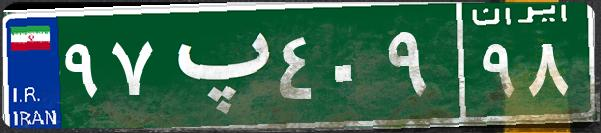0: (330, 28, 385, 110)
4: (273, 28, 330, 110)
7: (110, 28, 158, 105)
8: (525, 38, 570, 115)
9: (385, 28, 445, 110), (57, 26, 110, 107), (475, 38, 525, 113)
پ: (158, 15, 273, 115)
